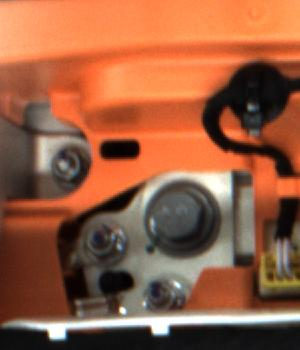nut_b: (145, 175, 223, 253)
screw_s: (44, 143, 91, 189), (138, 278, 190, 316), (75, 222, 125, 256)
